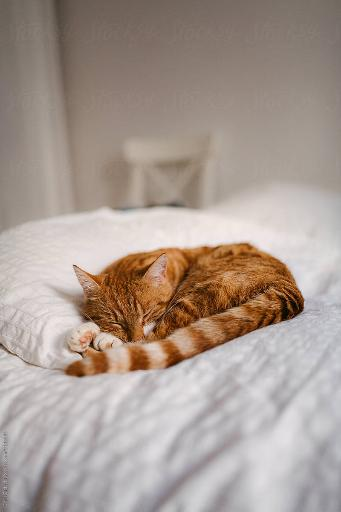cat_sleeping: (66, 244, 304, 376)
